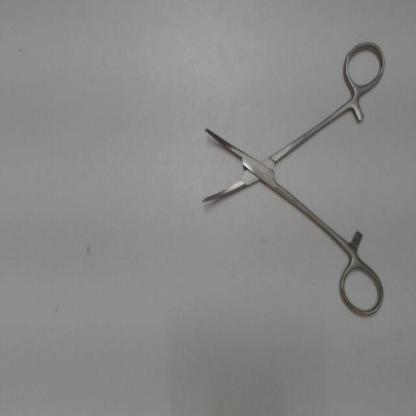Crile Artery Forceps: (192, 34, 390, 322)
